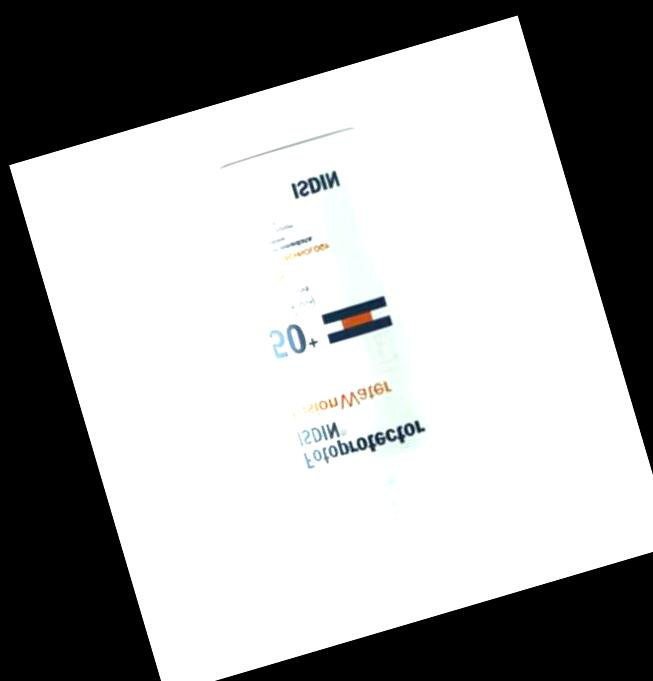cosmetic: (200, 118, 497, 593)
